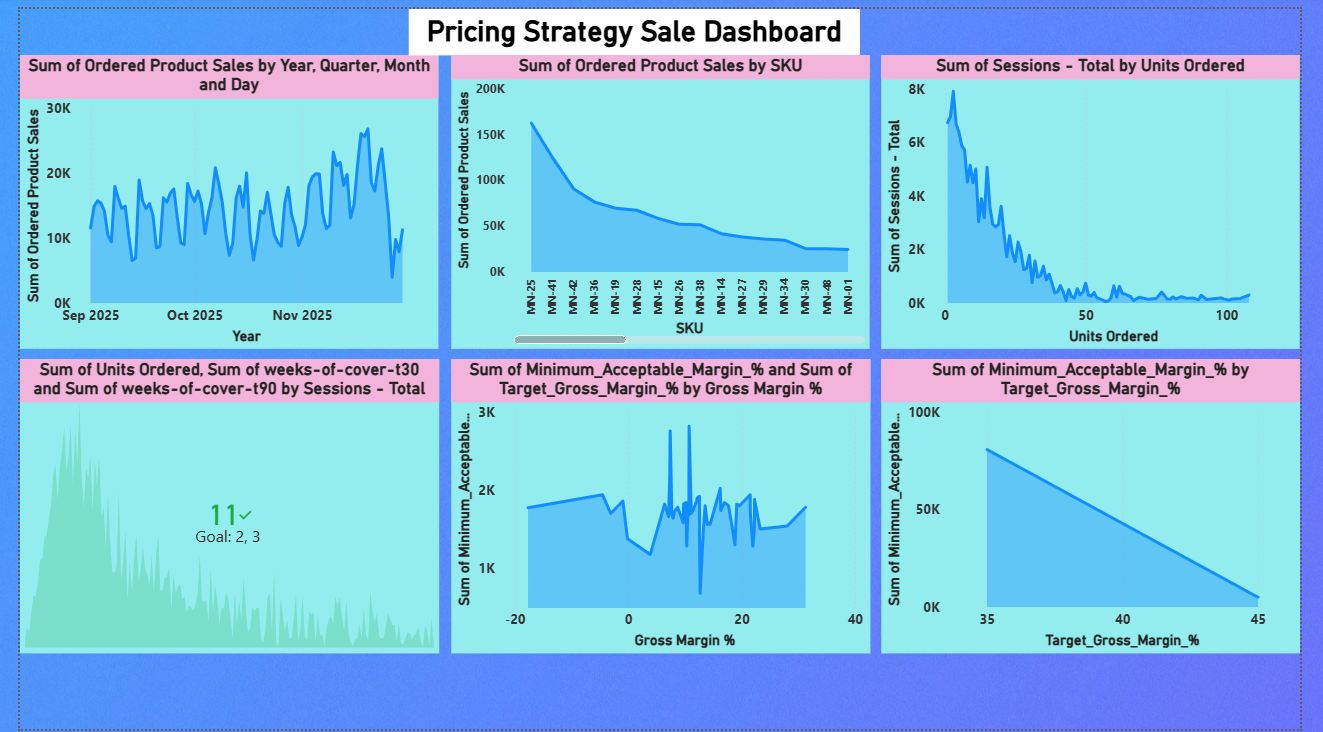

The page's visual inventory and layout, read from the dashboard file:
{"tool":"powerbi","page":{"name":"Page 1","canvas":[1280,720],"ordinal":0},"visuals":[{"type":"lineChart","fields":{"Y":["Sum(Pricing Data.Ordered Product Sales)"],"Category":["Pricing Data.Date.Variation.Date Hierarchy.Year","Pricing Data.Date.Variation.Date Hierarchy.Quarter","Pricing Data.Date.Variation.Date Hierarchy.Month","Pricing Data.Date.Variation.Date Hierarchy.Day"]},"box":[0,46.2,418.8,293.8],"z":0},{"type":"textbox","box":[388.8,0,451.2,46.2],"z":1000},{"type":"lineChart","fields":{"Y":["Sum(Pricing Data.Ordered Product Sales)"],"Category":["Pricing Data.SKU"]},"box":[431.2,46.2,418.8,293.8],"z":2000},{"type":"lineChart","fields":{"Category":["Pricing Data.Units Ordered"],"Y":["Sum(Pricing Data.Sessions - Total)"]},"box":[861.2,46.2,418.8,293.8],"z":3000},{"type":"kpi","fields":{"Indicator":["Sum(Pricing Data.Units Ordered)"],"TrendLine":["Pricing Data.Sessions - Total"],"Goal":["Sum(Pricing Data.weeks-of-cover-t30)","Sum(Pricing Data.weeks-of-cover-t90)"]},"box":[0,350,419,294],"z":4000},{"type":"stackedAreaChart","fields":{"Category":["Pricing Data.Gross Margin %"],"Y":["Sum(Pricing Data.Minimum_Acceptable_Margin_%)"]},"box":[431,350,419,294],"z":5000},{"type":"stackedAreaChart","fields":{"Category":["Pricing Data.Target_Gross_Margin_%"],"Y":["Sum(Pricing Data.Minimum_Acceptable_Margin_%)"]},"box":[861,350,419,294],"z":6000}]}

Visuals, with their boxes in screenshot pixels (x1, y1, x2, y2), scaled from the page's 1280x720 canvas onto the 1323x732 screenshot:
lineChart - Sum(Pricing Data.Ordered Product Sales) x Pricing Data.Date.Variation.Date Hierarchy.Year: <bbox>0, 47, 433, 346</bbox>
textbox: <bbox>402, 0, 868, 47</bbox>
lineChart - Sum(Pricing Data.Ordered Product Sales) x Pricing Data.SKU: <bbox>446, 47, 879, 346</bbox>
lineChart - Pricing Data.Units Ordered x Sum(Pricing Data.Sessions - Total): <bbox>890, 47, 1322, 346</bbox>
kpi - Sum(Pricing Data.Units Ordered) x Pricing Data.Sessions - Total: <bbox>0, 356, 433, 655</bbox>
stackedAreaChart - Pricing Data.Gross Margin % x Sum(Pricing Data.Minimum_Acceptable_Margin_%): <bbox>445, 356, 879, 655</bbox>
stackedAreaChart - Pricing Data.Target_Gross_Margin_% x Sum(Pricing Data.Minimum_Acceptable_Margin_%): <bbox>890, 356, 1322, 655</bbox>
